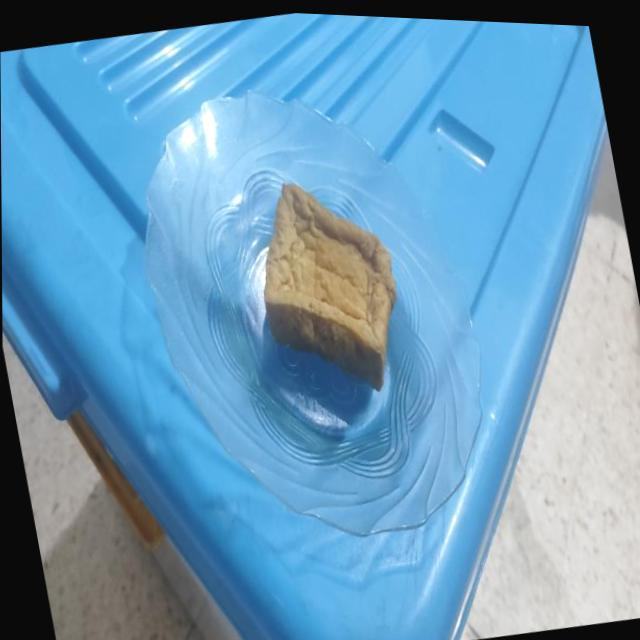tahu_goreng: (264, 183, 396, 390)
